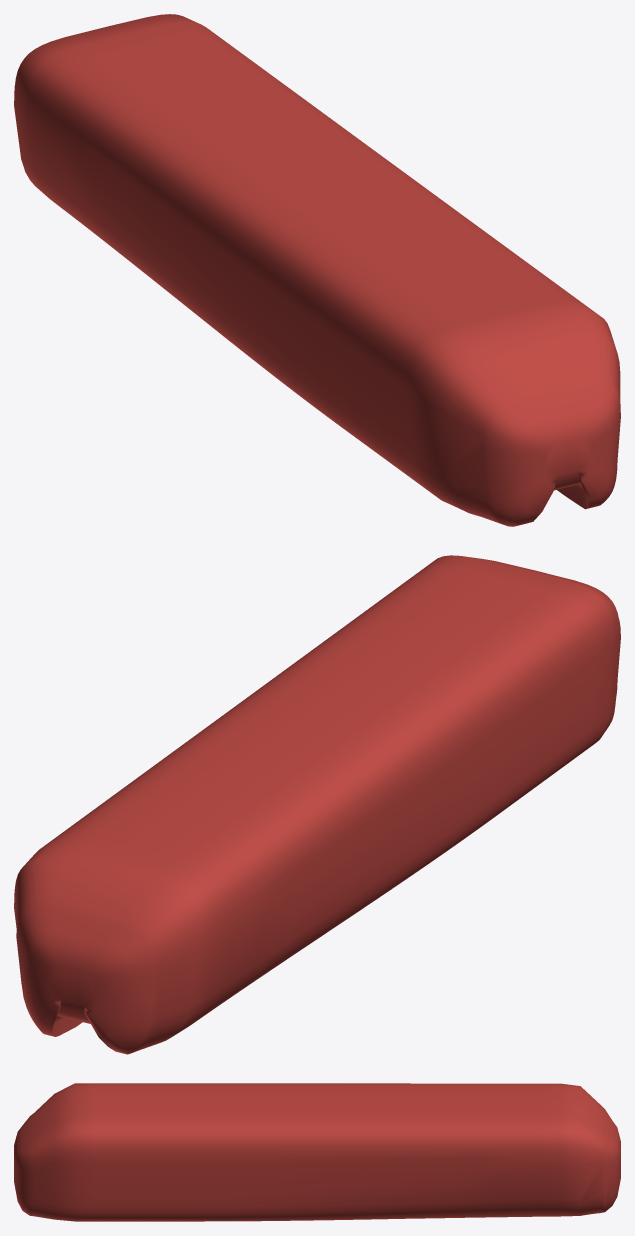
The model's file is coffin.glb.
3 renders of one model, top to bottom at view 1: azimuth 30°, elevation 25°; view 2: azimuth 150°, elevation 25°; view 3: azimuth 270°, elevation 25°, orthographic. The views are drawn at different scales.
Parts seen in each view (by area): view 1: lod0; view 2: lod0; view 3: lod0.
Boxes of the visible parts, x1,y1,x2,y2 form: lod0: [14, 14, 620, 526]; lod0: [14, 555, 620, 1054]; lod0: [14, 1083, 620, 1221].
Size of what is drawn, in the model's own units: 0.22 by 0.1846 by 1.
